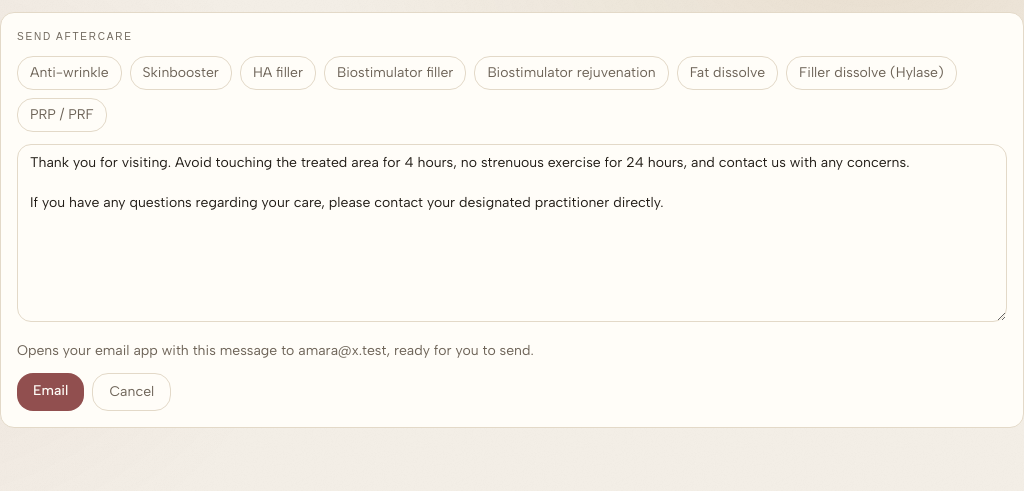
Test: AftercareForm › stays open after hand-off, confirming what was recorded
Click the link "Email". click: [51, 392]
box: [17, 373, 84, 411]
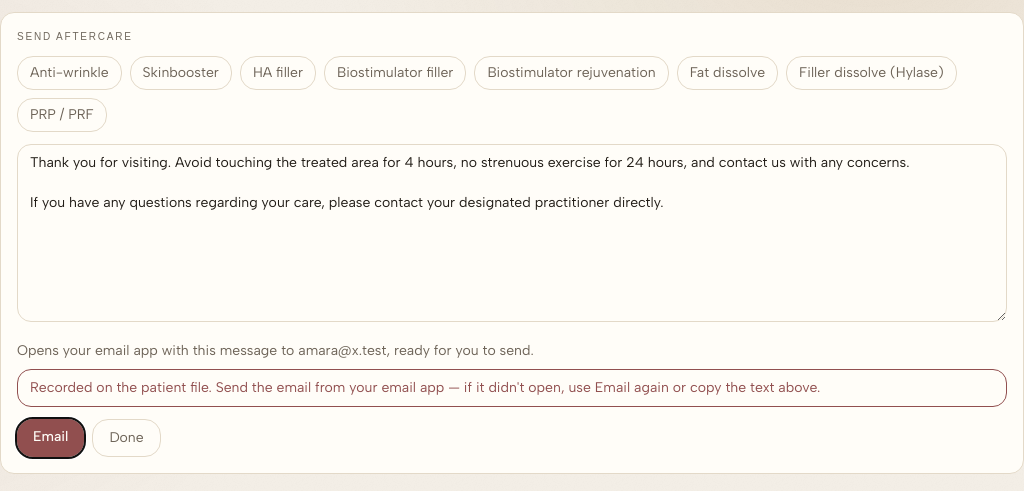
Check: the text box is shown, box [17, 144, 1007, 322]
Check: the text "Recorded on the patient file" is shown, box [30, 379, 820, 396]
